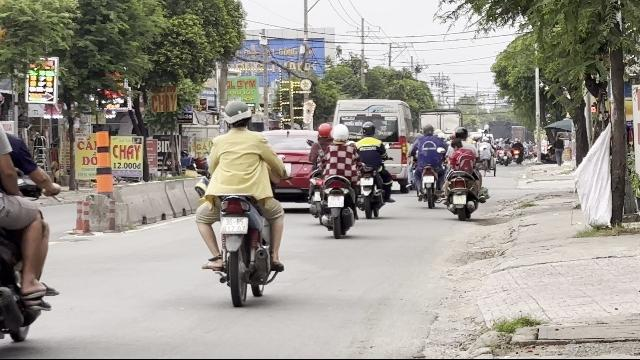helmet: (221, 98, 253, 130), (331, 123, 349, 143)
licenseplate: (221, 218, 247, 234), (328, 197, 344, 207)
motorcyclist: (192, 98, 288, 302), (318, 122, 358, 236)
